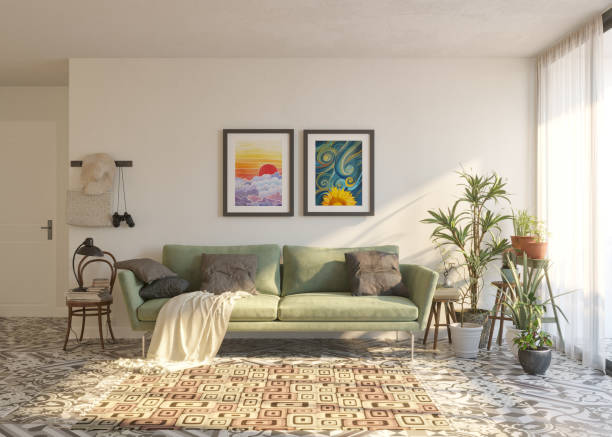large plant: (427, 170, 504, 344)
side table: (61, 297, 116, 353)
small plant: (504, 269, 542, 350), (516, 331, 554, 375), (507, 210, 532, 252), (524, 227, 550, 258)
sofa: (114, 237, 439, 365)
table lamp: (68, 232, 106, 296)
wall art: (301, 126, 377, 218), (220, 126, 296, 218)
